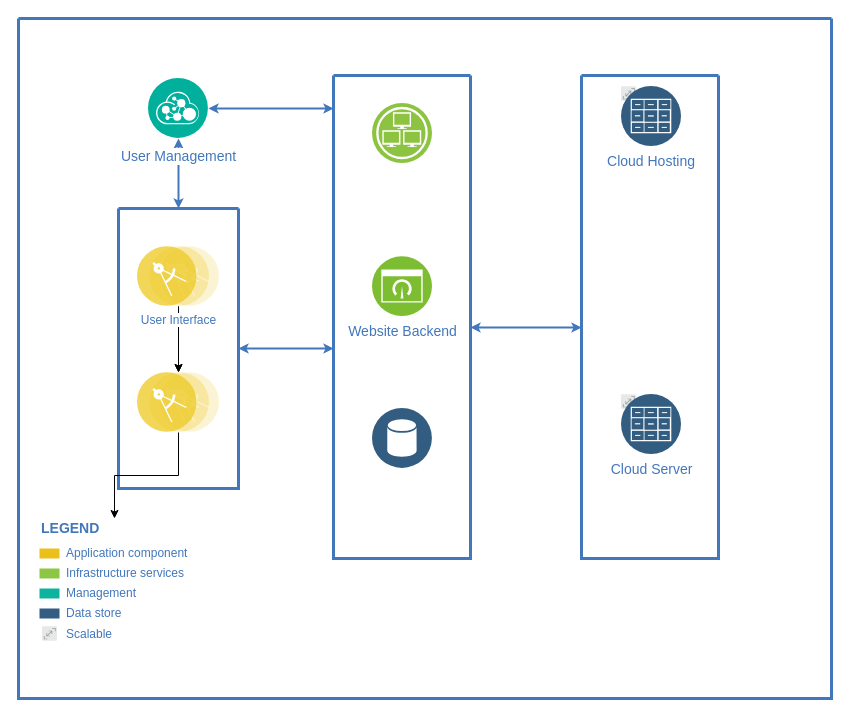
This 850x717 diagram has some shape labels left out. The shapes that lost their labels are listed below. From the top down, each one's centre as x and y in pixels, then its label:
point (402, 133): Domain & Network
point (178, 402): Services
point (402, 438): Office Database
